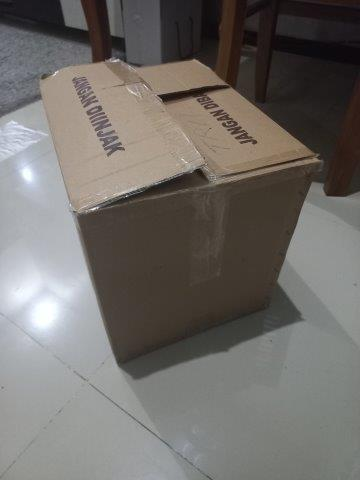kardus: (38, 57, 322, 363)
